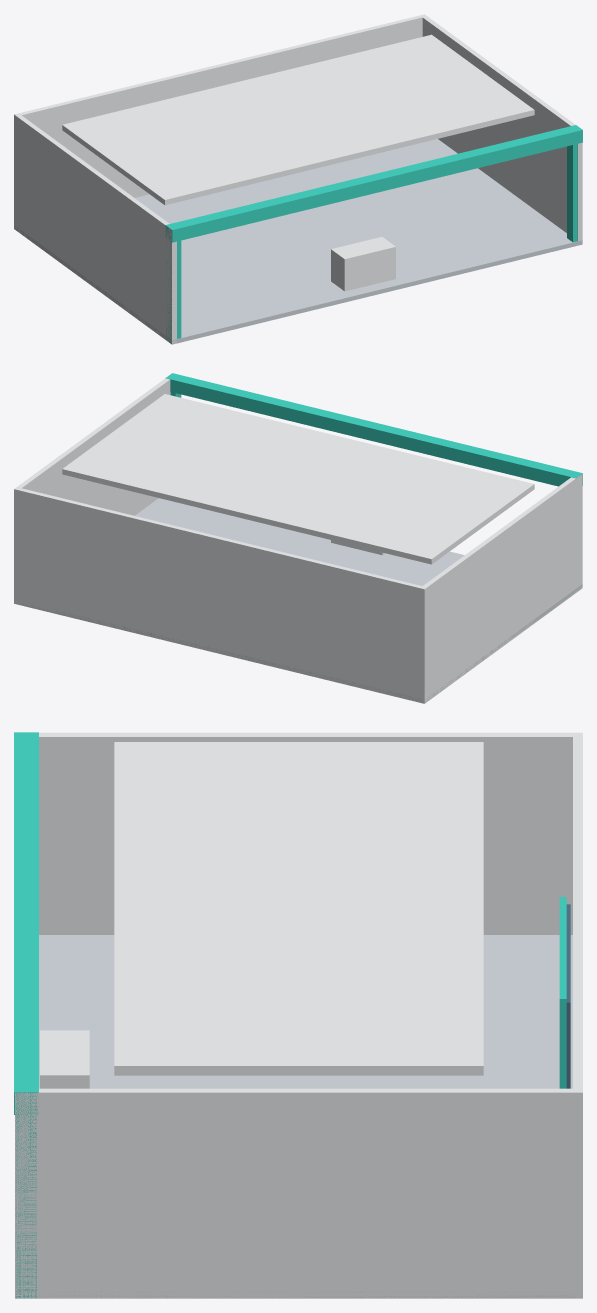
3 views of the same model, one above another, from view 1: azimuth 30°, elevation 25°; view 2: azimuth 150°, elevation 25°; view 3: azimuth 270°, elevation 25° (orthographic). The views are drawn at different scales.
Visible parts, largest first — view 1: Exhibition Booth Concept; view 2: Exhibition Booth Concept; view 3: Exhibition Booth Concept.
Part boxes in pixels (x1,y1,x2,y2): Exhibition Booth Concept: [14, 14, 582, 344]; Exhibition Booth Concept: [14, 373, 582, 703]; Exhibition Booth Concept: [14, 732, 582, 1298].
Bounding box in the file's own units: 12 × 3.34 × 8.01.
